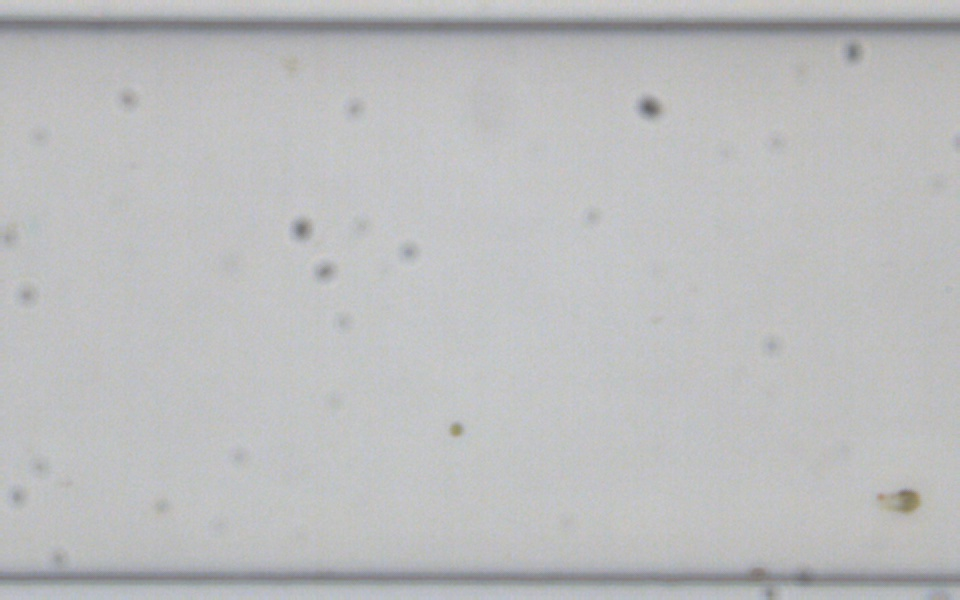Chlorella: (447, 421, 464, 437)
Dunaliella salina: (874, 487, 923, 514)
